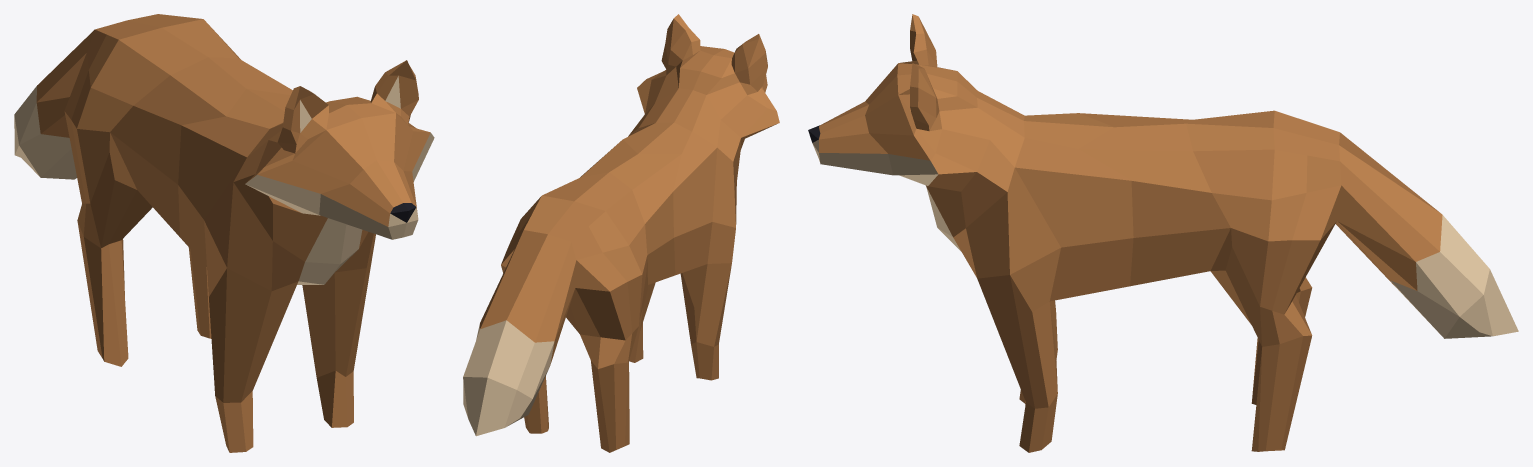
The model's file is Fox.fbx.
3 views of the same model, side by side, from view 1: azimuth 30°, elevation 25°; view 2: azimuth 150°, elevation 25°; view 3: azimuth 270°, elevation 25° (orthographic). The views are drawn at different scales.
Visible parts, largest first — view 1: Cube; view 2: Cube; view 3: Cube.
Part boxes in pixels (x1,y1,x2,y2): Cube: [14, 14, 434, 452]; Cube: [463, 14, 779, 452]; Cube: [808, 14, 1518, 452].
Bounding box in the file's own units: 225 × 468 × 774.
